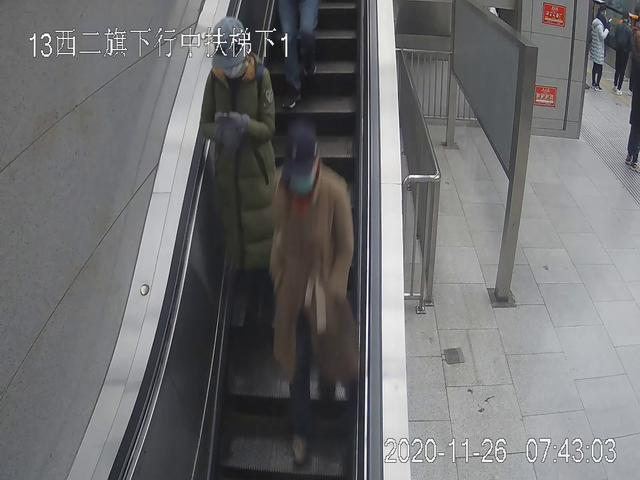person: (269, 126, 353, 468), (208, 18, 277, 330), (588, 12, 610, 91), (614, 12, 629, 93)
